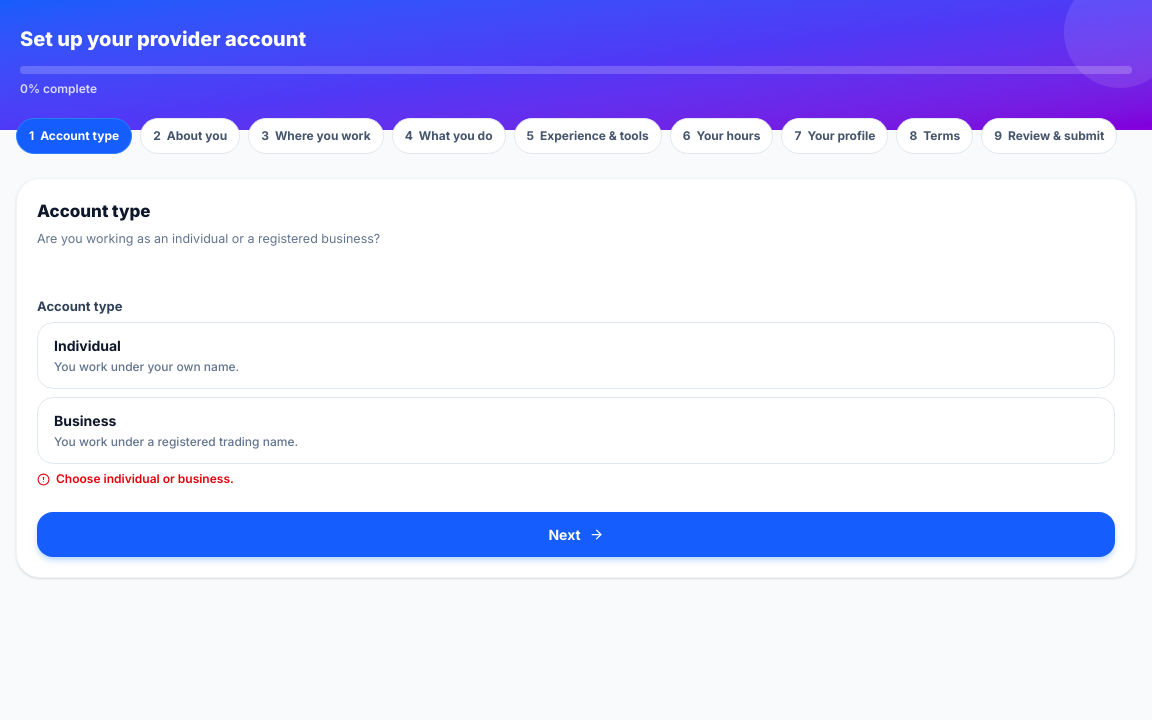
Test: autosave › offers a retry when a save fails
The image size is (1152, 720).
Expected: the heading "Account type" is shown, top-left (37, 201), bottom-right (151, 221)
Click the radio button labelled "Individual You work under your own name.".
click(87, 346)  # box top-left (37, 322), bottom-right (1115, 389)
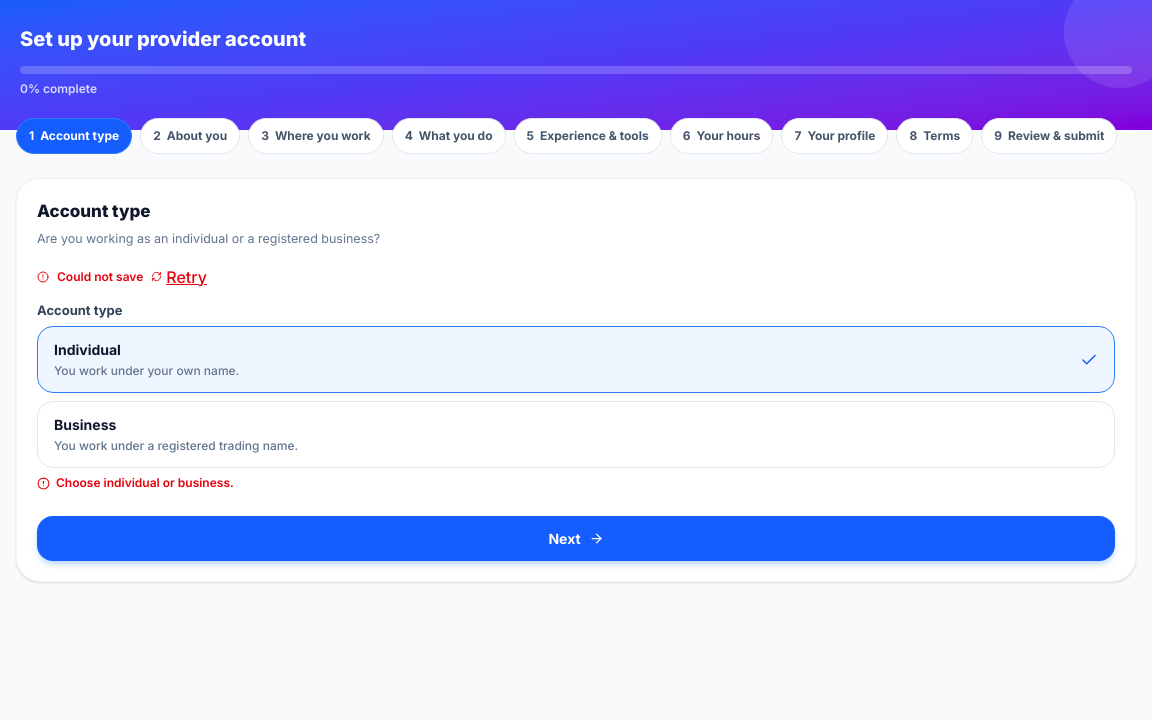
Expected: the text "Could not save Retry" is shown, top-left (37, 264), bottom-right (207, 288)
Expected: the button "Retry" is enabled, top-left (151, 264), bottom-right (207, 288)
